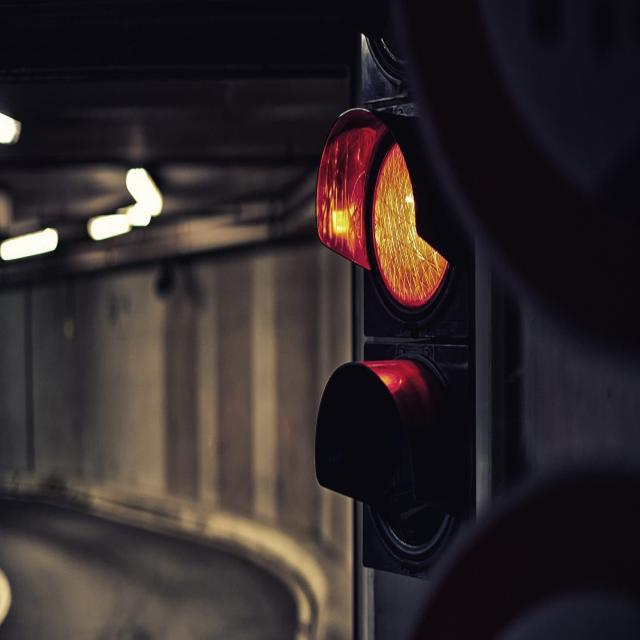red: (348, 105, 476, 331)
